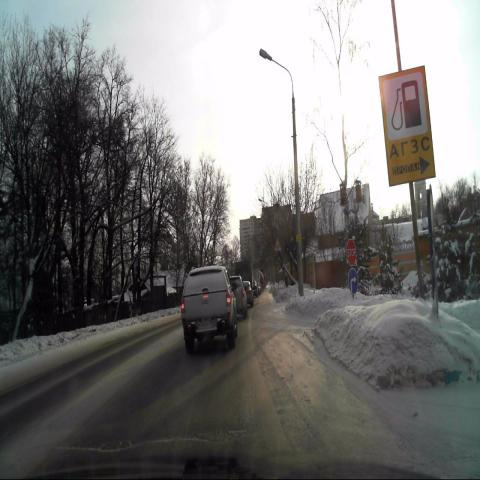2_5: (346, 239, 356, 266)
4_1_2: (348, 268, 358, 293)
